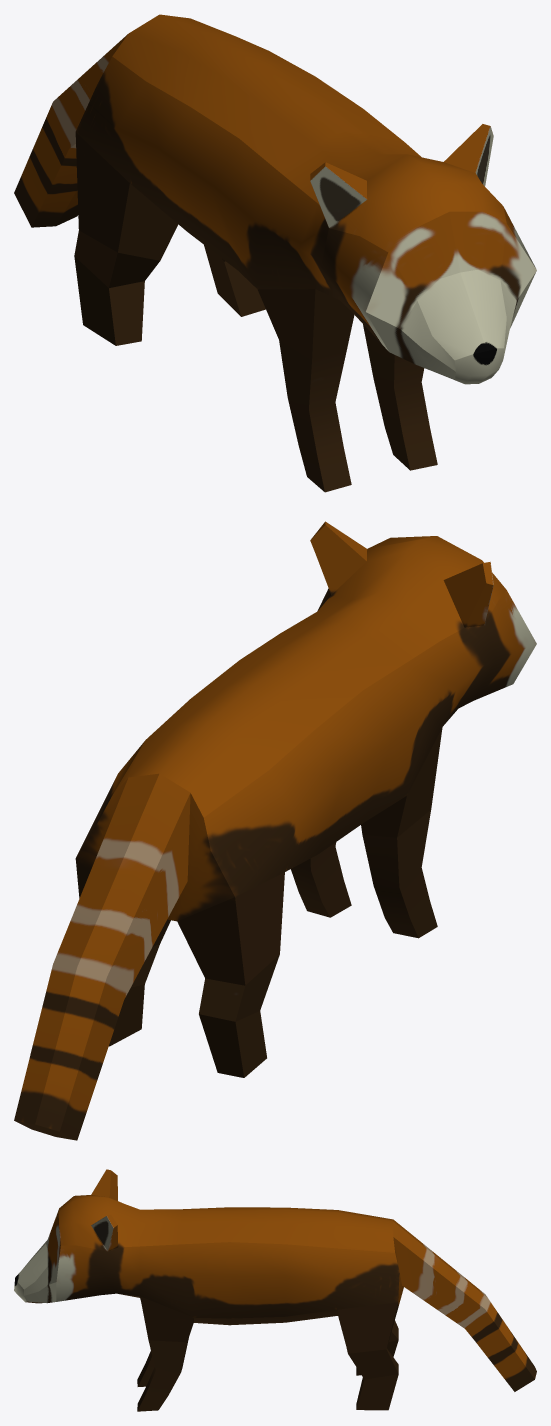
File: lesserpanda.fbx
3 views of the same model, one above another, from view 1: azimuth 30°, elevation 25°; view 2: azimuth 150°, elevation 25°; view 3: azimuth 270°, elevation 25° (orthographic). The views are drawn at different scales.
Parts seen in each view (by area): view 1: lesserpanda; view 2: lesserpanda; view 3: lesserpanda.
Boxes of the visible parts, x1,y1,x2,y2 form: lesserpanda: [14, 14, 536, 492]; lesserpanda: [14, 521, 536, 1140]; lesserpanda: [14, 1169, 536, 1411].
Size of the model in its own units: 19.33 by 35.26 by 82.17.
